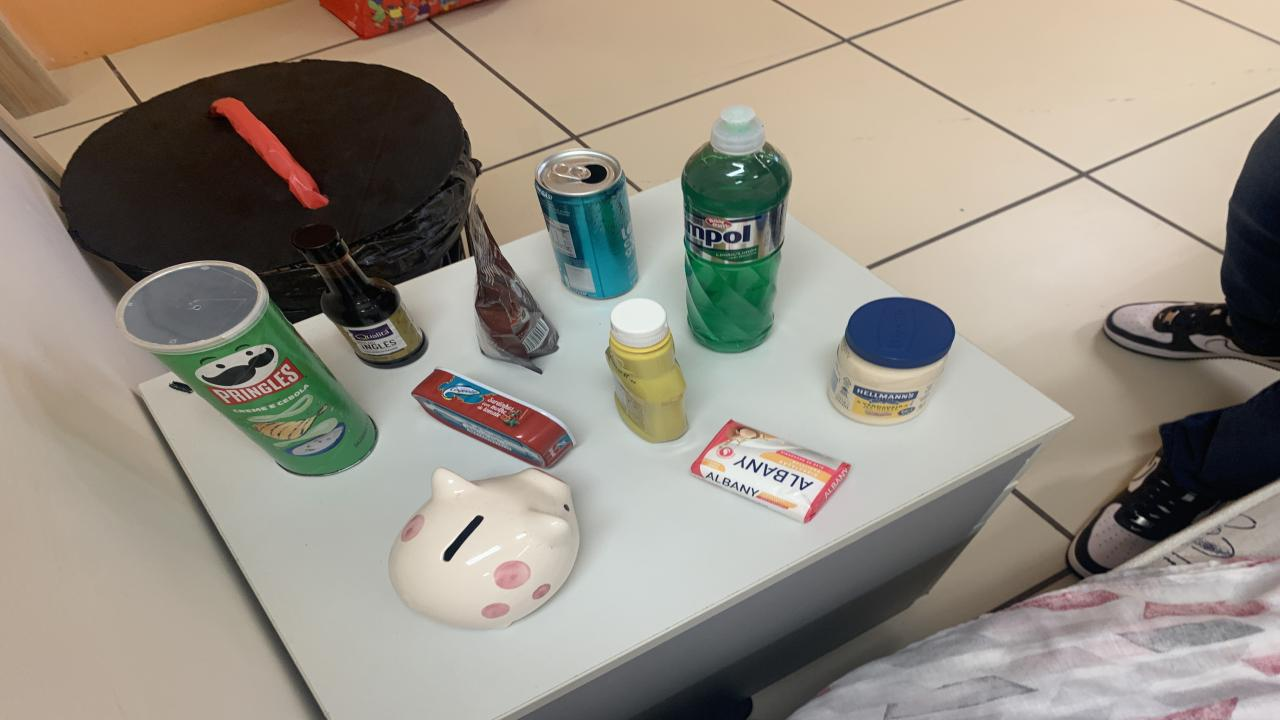Coffee-Pantry_Items: (465, 189, 558, 373)
Detergent-Cleanup_Items: (682, 105, 792, 352)
English_Sauce-Pantry_Items: (292, 225, 428, 368)
Mayonnaise-Pantry_Items: (828, 296, 955, 426)
Mustard-Pantry_Items: (605, 298, 688, 442)
Pig_Safe-Miscellaneous: (390, 469, 580, 628)
Pringles-Snacks: (115, 261, 378, 474)
Soap-Cleanup_Items: (690, 420, 850, 523)
Tea-Drinks: (535, 148, 638, 298)
Tuna_Can-Pantry_Items: (412, 368, 575, 467)
